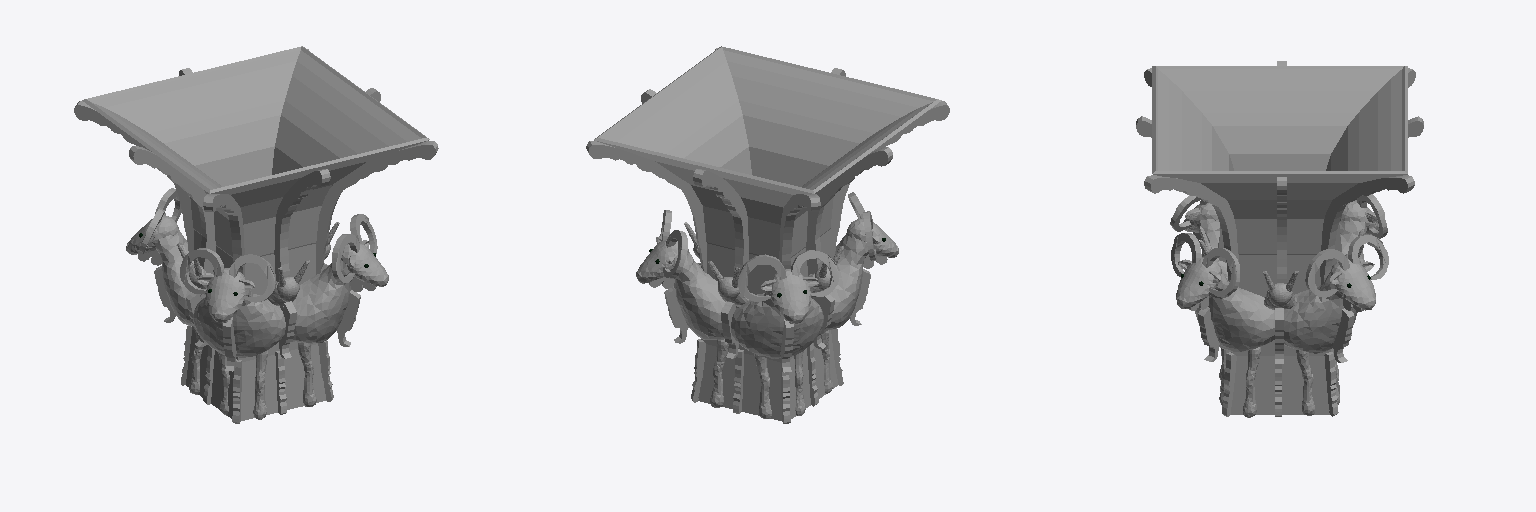
Rendered from sheep_vase.obj.
3 renders of one model, left to right at view 1: azimuth 30°, elevation 25°; view 2: azimuth 150°, elevation 25°; view 3: azimuth 270°, elevation 25°, orthographic.
Parts seen in each view (by area): view 1: vase_body_Plane, sheep_body.003_model_[number redacted].003, sheep_body.001_model_[number redacted].006, sheep_body.000_model_[number redacted].007, arches_top.001_model_[number redacted].010, arches_top.005_model_[number redacted].013, arches_top.006_model_[number redacted].014, arches_top.000_model_[number redacted].011, arches_top.004_model_[number redacted].005, horn.006_model_[number redacted].007, horn.007_model_[number redacted].008, leg.007_model_[number redacted].008 (+5 smaller); view 2: vase_body_Plane, sheep_body.000_model_[number redacted].007, sheep_body.004_model_[number redacted].004, sheep_body.003_model_[number redacted].003, arches_top.008_model_[number redacted].002, arches_top.005_model_[number redacted].013, arches_top.003_model_[number redacted].012, arches_top.004_model_[number redacted].005, arches_top.000_model_[number redacted].011, horn.000_model_[number redacted].014, horn.001_model_[number redacted].015, leg.008_model_[number redacted].001 (+4 smaller); view 3: vase_body_Plane, sheep_body.001_model_[number redacted].006, sheep_body.004_model_[number redacted].004, arches_top.008_model_[number redacted].002, arches_top.001_model_[number redacted].010, sheep_body.000_model_[number redacted].007, arches_top.002_model_[number redacted].009, sheep_body.003_model_[number redacted].003, horn.008_model_[number redacted].001, horn.011_model_[number redacted].013, horn.009_model_[number redacted].009, leg.003_model_[number redacted].013 (+6 smaller).
Boxes of the visible parts, <box> form: vase_body_Plane: <box>82,46,429,420</box>; sheep_body.003_model_[number redacted].003: <box>193,268,285,371</box>; sheep_body.001_model_[number redacted].006: <box>292,244,388,346</box>; sheep_body.000_model_[number redacted].007: <box>126,215,193,325</box>; arches_top.001_model_[number redacted].010: <box>316,141,438,274</box>; arches_top.005_model_[number redacted].013: <box>129,146,215,298</box>; arches_top.006_model_[number redacted].014: <box>274,169,330,310</box>; arches_top.000_model_[number redacted].011: <box>74,101,193,252</box>; arches_top.004_model_[number redacted].005: <box>203,194,244,276</box>; horn.006_model_[number redacted].007: <box>180,248,223,293</box>; horn.007_model_[number redacted].008: <box>229,254,276,302</box>; leg.007_model_[number redacted].008: <box>253,350,267,419</box>; vase_body_Plane: <box>594,46,941,420</box>; sheep_body.000_model_[number redacted].007: <box>731,269,823,372</box>; sheep_body.004_model_[number redacted].004: <box>636,239,725,343</box>; sheep_body.003_model_[number redacted].003: <box>828,218,898,329</box>; arches_top.008_model_[number redacted].002: <box>586,141,706,272</box>; arches_top.005_model_[number redacted].013: <box>806,147,892,302</box>; arches_top.003_model_[number redacted].012: <box>693,169,748,307</box>; arches_top.004_model_[number redacted].005: <box>830,101,949,257</box>; arches_top.000_model_[number redacted].011: <box>779,194,820,268</box>; horn.000_model_[number redacted].014: <box>738,254,786,301</box>; horn.001_model_[number redacted].015: <box>791,250,838,296</box>; leg.008_model_[number redacted].001: <box>710,339,728,407</box>; vase_body_Plane: <box>1152,66,1407,414</box>; sheep_body.001_model_[number redacted].006: <box>1176,257,1274,361</box>; sheep_body.004_model_[number redacted].004: <box>1284,258,1375,362</box>; arches_top.008_model_[number redacted].002: <box>1320,175,1414,284</box>; arches_top.001_model_[number redacted].010: <box>1144,175,1238,286</box>; sheep_body.000_model_[number redacted].007: <box>1339,201,1378,262</box>; arches_top.002_model_[number redacted].009: <box>1277,177,1286,283</box>; sheep_body.003_model_[number redacted].003: <box>1183,203,1219,256</box>; horn.008_model_[number redacted].001: <box>1305,249,1349,297</box>; horn.011_model_[number redacted].013: <box>1202,248,1239,296</box>; horn.009_model_[number redacted].009: <box>1348,235,1388,279</box>; leg.003_model_[number redacted].013: <box>1243,347,1260,417</box>.
Size of the model in its own units: 8.96 by 9.5 by 9.01.